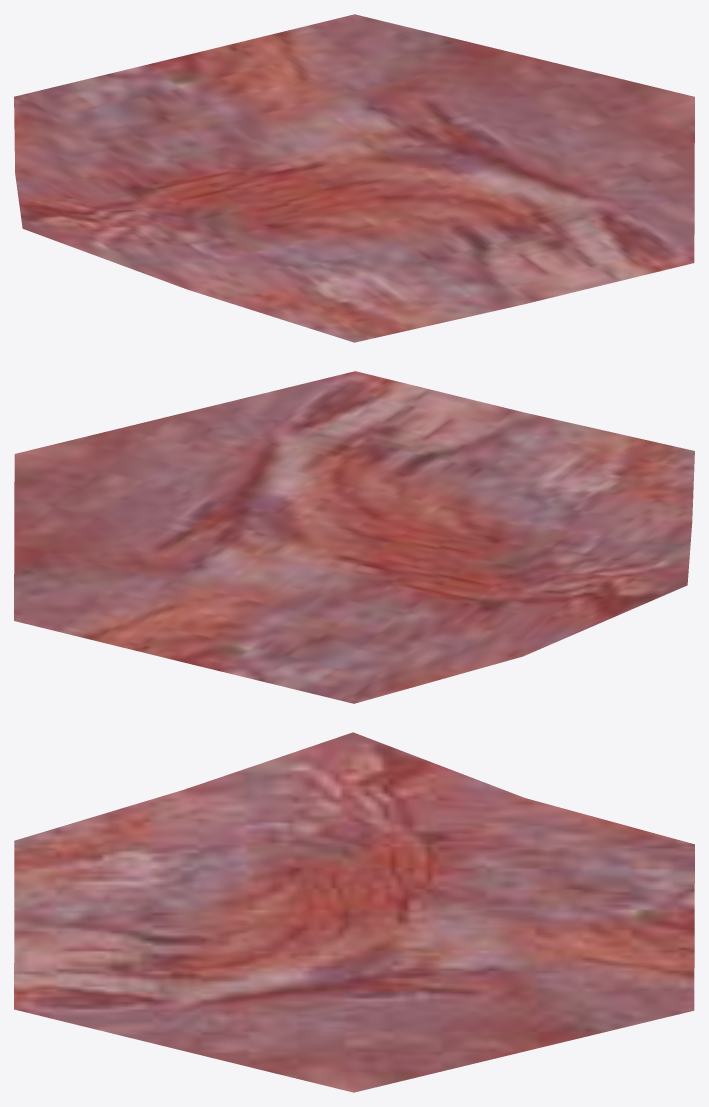
The model's file is krytka2.fbx.
3 views of the same model, one above another, from view 1: azimuth 30°, elevation 25°; view 2: azimuth 150°, elevation 25°; view 3: azimuth 270°, elevation 25° (orthographic).
Parts seen in each view (by area): view 1: krytka2; view 2: krytka2; view 3: krytka2.
Boxes of the visible parts, <box> form: krytka2: <box>14,14,694,342</box>; krytka2: <box>14,371,694,703</box>; krytka2: <box>14,732,694,1092</box>.
Bounding box in the file's own units: 3.21 × 0.152 × 2.82.
1 material, 1 textured.
